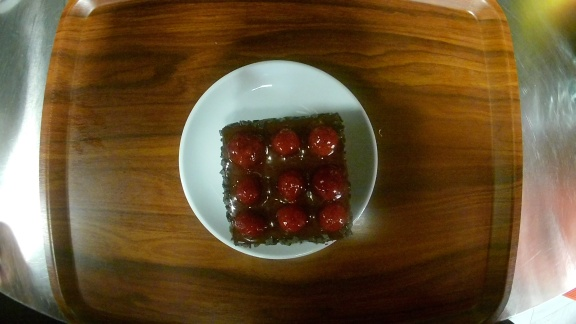cileklipasta: (179, 59, 379, 260)
